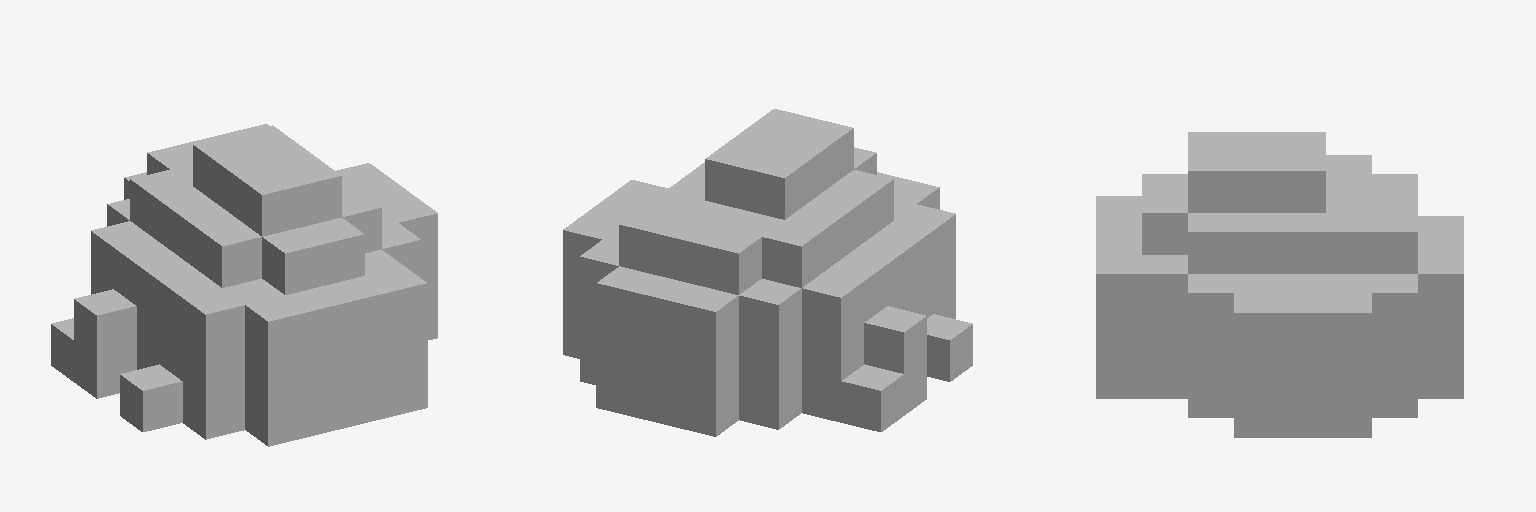
Rendered from rock.obj.
The picture shows the model from 3 angles: view 1: azimuth 30°, elevation 25°; view 2: azimuth 150°, elevation 25°; view 3: azimuth 270°, elevation 25°; orthographic projection.
Parts seen in each view (by area): view 1: object 1; view 2: object 1; view 3: object 1.
Part boxes in pixels (left/top/right/bottom): object 1: left=51, top=124, right=437, bottom=446; object 1: left=563, top=109, right=972, bottom=436; object 1: left=1096, top=132, right=1463, bottom=437.
Bounding box in the file's own units: 0.8 × 0.5 × 0.8.